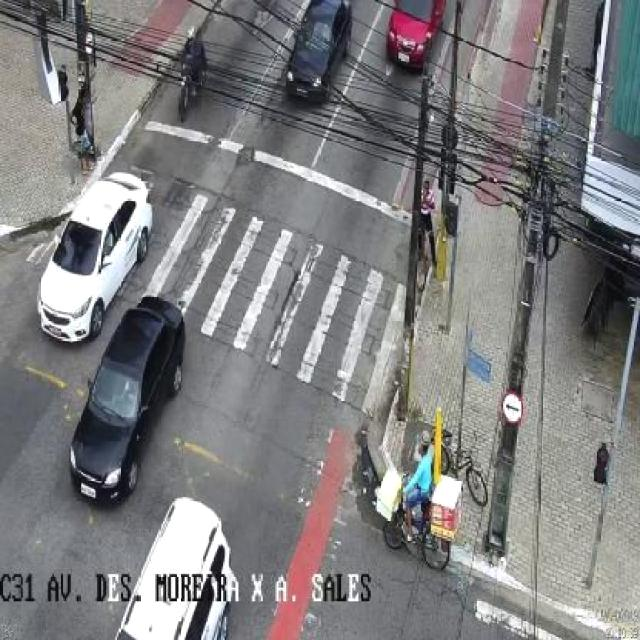Car: (66, 293, 186, 509), (36, 169, 156, 342), (278, 0, 355, 99), (385, 0, 448, 63)
Cycle: (175, 24, 206, 120)
